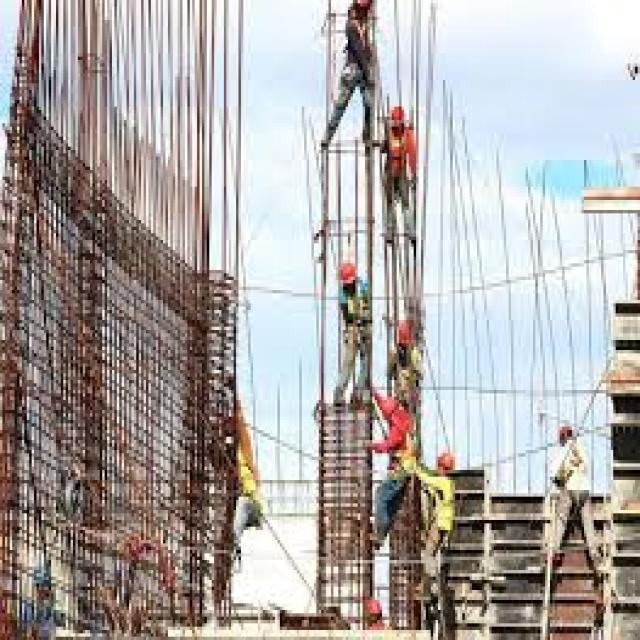Safety-Helmet: (392, 313, 418, 350), (334, 257, 361, 290), (384, 100, 412, 130)
